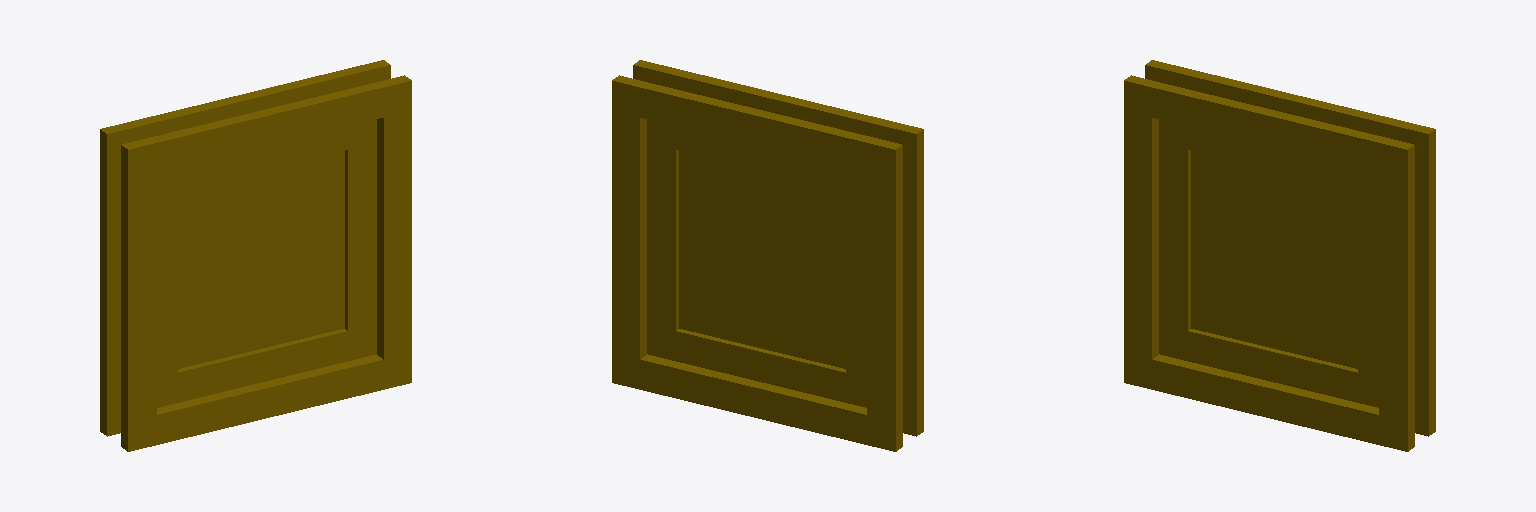
The model's file is ventana2f.obj.
The picture shows the model from 3 angles: view 1: azimuth 30°, elevation 25°; view 2: azimuth 150°, elevation 25°; view 3: azimuth 330°, elevation 25°; orthographic projection.
Visible parts, largest first — view 1: AwningWindow002; view 2: AwningWindow002; view 3: AwningWindow002.
Part boxes in pixels (left/top/right/bottom): AwningWindow002: left=100, top=60, right=411, bottom=451; AwningWindow002: left=612, top=60, right=923, bottom=451; AwningWindow002: left=1124, top=60, right=1435, bottom=451.
Bounding box in the file's own units: 11.57 × 11.78 × 2.